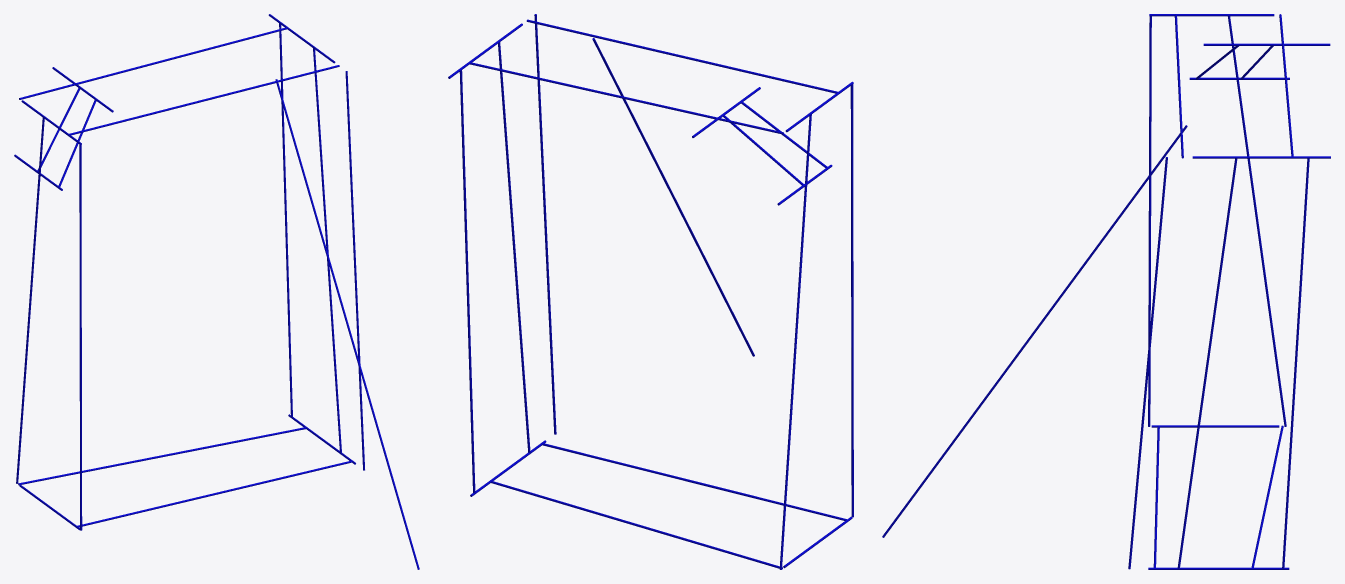
The model's file is corrected_3d_strokes.glb.
The picture shows the model from 3 angles, left to right: view 1: azimuth 30°, elevation 25°; view 2: azimuth 150°, elevation 25°; view 3: azimuth 270°, elevation 25°; orthographic projection. The views are drawn at different scales.
Parts seen in each view (by area): view 1: world; view 2: world; view 3: world.
Boxes of the visible parts, <box> form: world: <box>14,14,419,569</box>; world: <box>448,14,853,569</box>; world: <box>882,14,1330,569</box>.
Size of the model in its own units: 5.77 by 7.76 by 7.64.
